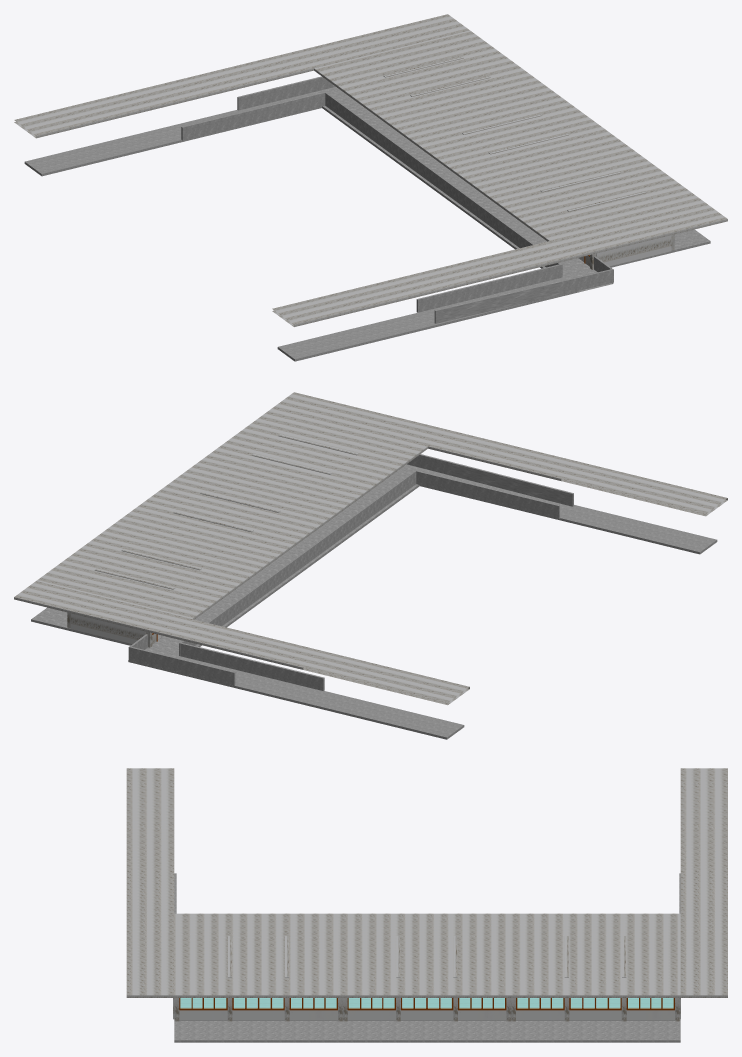
The model's file is ClassRoom.fbx.
3 views of the same model, one above another, from view 1: azimuth 30°, elevation 25°; view 2: azimuth 150°, elevation 25°; view 3: azimuth 270°, elevation 25° (orthographic). The views are drawn at different scales.
Visible parts, largest first — view 1: Ceiling, Roofing_1, Roofing_2, Floor, Stair_Corridor_3, Stair_Corridor_1, Railing__2__4, Railing__3__2, Railing__1__4, Railing__4__4, Railing__1__3, Mid_Walls_3; view 2: Ceiling, Roofing_2, Roofing_1, Stair_Corridor_1, Floor, Stair_Corridor_3, Railing__2__4, Railing__3__2, Railing__4__4, Railing__1__4, Railing__1__3, Mid_Walls; view 3: Ceiling, Roofing_1, Floor, Roofing_2, Floor_Elevated, Floor__38__11_1, Floor__38__11, Floor__38__11_5.
Boxes of the visible parts, x1,y1,x2,y2 form: Ceiling: (314,30,705,241); Roofing_1: (272,203,727,326); Roofing_2: (14,14,469,138); Floor: (322,98,710,277); Stair_Corridor_3: (277,270,613,361); Stair_Corridor_1: (24,87,351,176); Railing__2__4: (324,91,562,277); Railing__3__2: (434,269,613,323); Railing__1__4: (181,92,325,140); Railing__4__4: (416,264,560,312); Railing__1__3: (237,76,335,110); Mid_Walls_3: (596,235,671,266); Ceiling: (36,408,427,619); Roofing_2: (14,581,469,705); Roofing_1: (272,392,727,516); Stair_Corridor_1: (128,648,464,739); Floor: (31,476,419,655); Stair_Corridor_3: (390,464,717,554); Railing__2__4: (179,470,416,656); Railing__3__2: (407,454,573,506); Railing__4__4: (416,470,559,518); Railing__1__4: (181,643,324,690); Railing__1__3: (128,646,235,685); Mid_Walls: (71,613,145,643); Ceiling: (174,913,680,997); Roofing_1: (126,768,174,997); Floor: (174,1021,680,1042); Roofing_2: (680,768,727,997); Floor_Elevated: (179,998,680,1020); Floor__38__11_1: (347,1009,506,1020); Floor__38__11: (516,1010,674,1020); Floor__38__11_5: (179,1010,337,1020).
Size of what is drawn, in the model's own units: 3790 by 623 by 4976.
